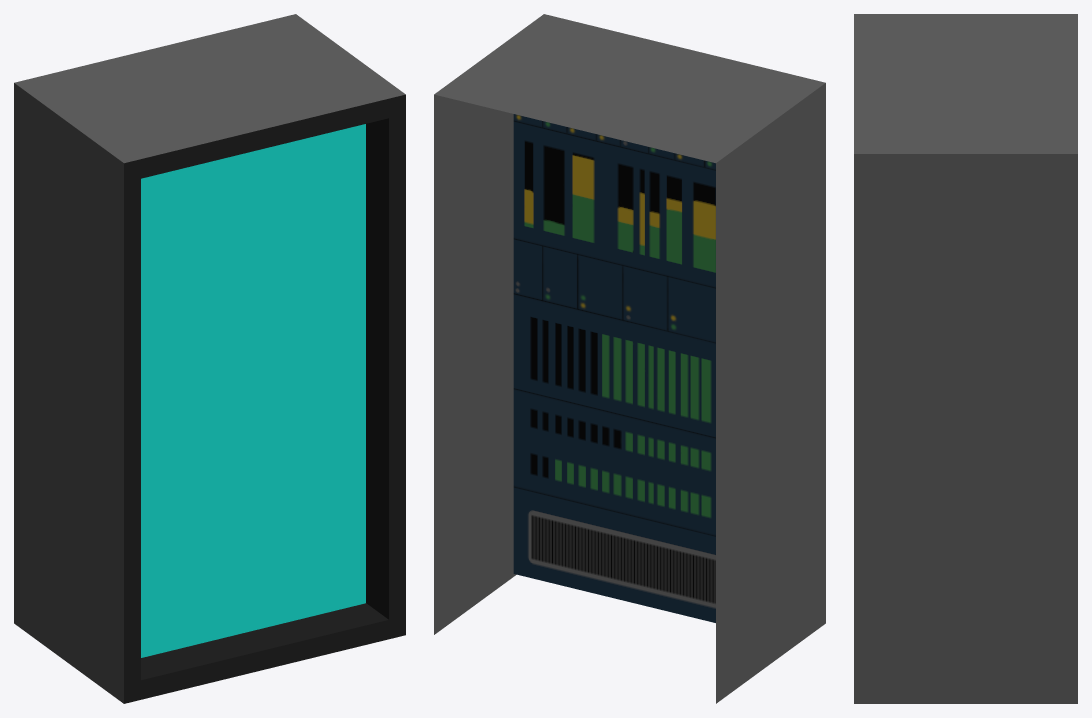
File: DataBank_1.fbx
3 renders of one model, left to right at view 1: azimuth 30°, elevation 25°; view 2: azimuth 150°, elevation 25°; view 3: azimuth 270°, elevation 25°, orthographic.
Parts seen in each view (by area): view 1: DataBank_1, Glass_1; view 2: DataBank_1; view 3: DataBank_1.
Boxes of the visible parts, x1,y1,x2,y2 form: DataBank_1: [14, 14, 405, 703]; Glass_1: [141, 124, 365, 657]; DataBank_1: [434, 14, 825, 703]; DataBank_1: [854, 14, 1077, 703].
Size of the model in its own units: 1 by 1.83 by 0.6759.
2 materials, 2 textured.
